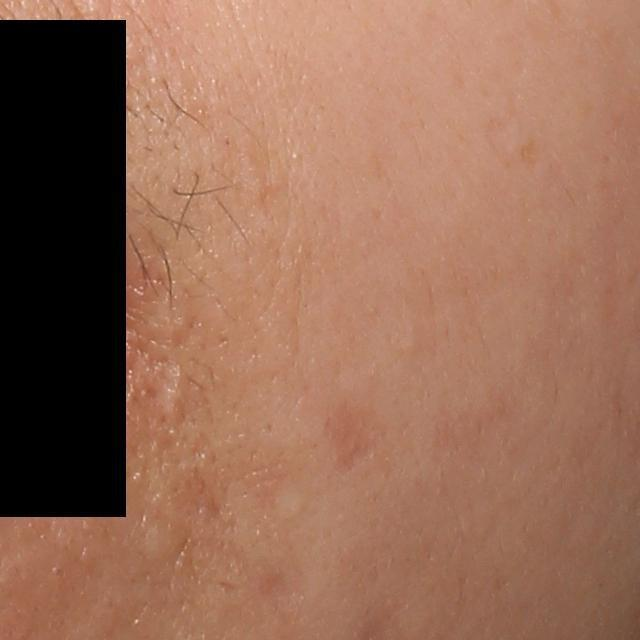atrophic_scar: (328, 404, 381, 477)
hypertrophic_scar: (133, 519, 197, 569), (162, 361, 188, 423)
